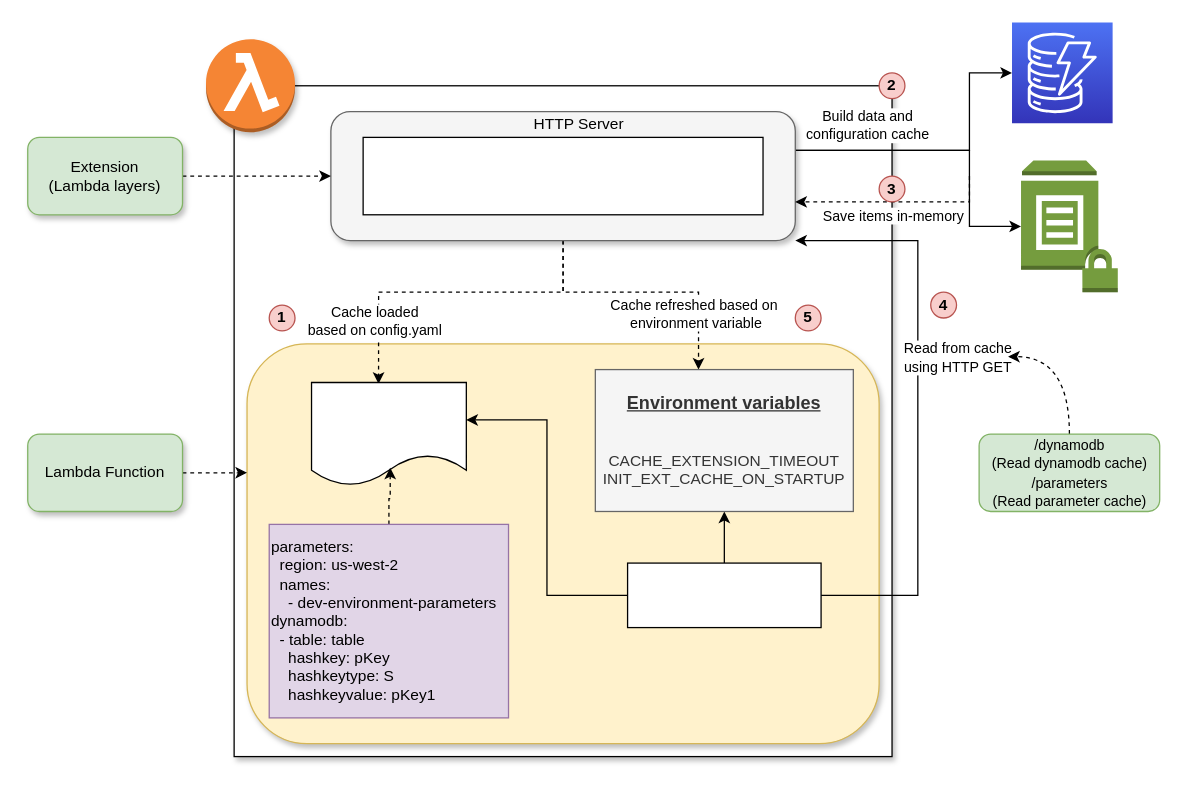
Image size: 1183x788. Some labels were removed from this diagram. Here are the shapes that lost their labels. From the top down, the centre of each, then its label:
At point (1062, 72): "Dynamodb".
At point (562, 175): "Lambda extension code".
At point (1069, 225): "Parameter store".
At point (388, 433): "Config.yaml".
At point (723, 595): "Lambda Function code".
